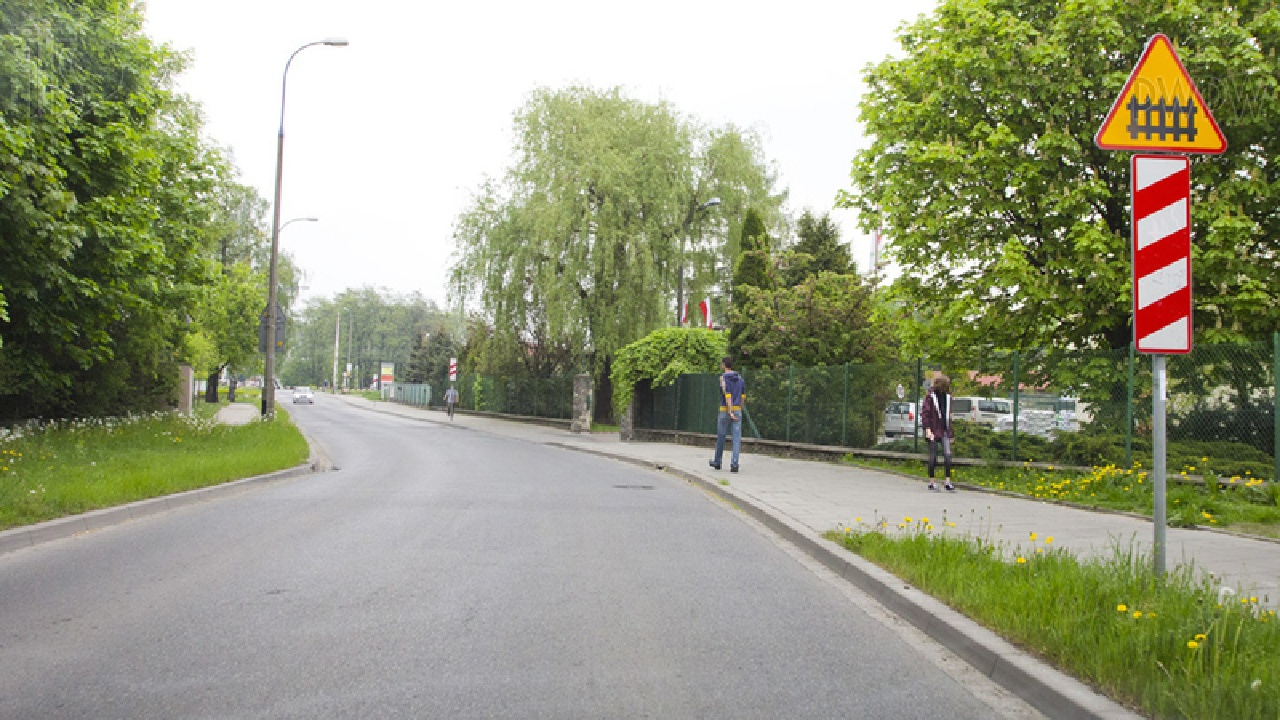A9: (1092, 33, 1227, 153)
